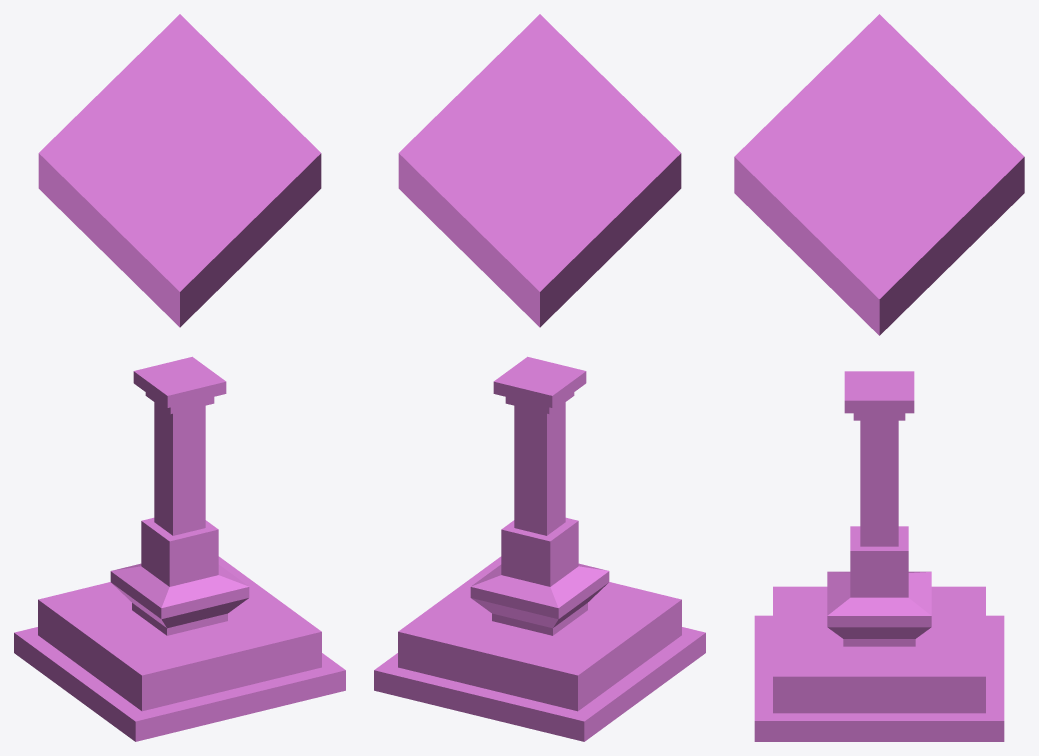
The model's file is rapyuta01.fbx.
The picture shows the model from 3 angles, left to right: view 1: azimuth 30°, elevation 25°; view 2: azimuth 150°, elevation 25°; view 3: azimuth 270°, elevation 25°; orthographic projection. The views are drawn at different scales.
Parts seen in each view (by area): view 1: pCube1, pCube2; view 2: pCube1, pCube2; view 3: pCube2, pCube1.
Boxes of the visible parts, x1,y1,x2,y2 form: pCube1: (14,356,345,741); pCube2: (38,14,321,327); pCube1: (374,356,705,741); pCube2: (398,14,681,327); pCube2: (734,14,1024,335); pCube1: (754,371,1004,741).
Bounding box in the file's own units: 78.57 × 175 × 68.04.
